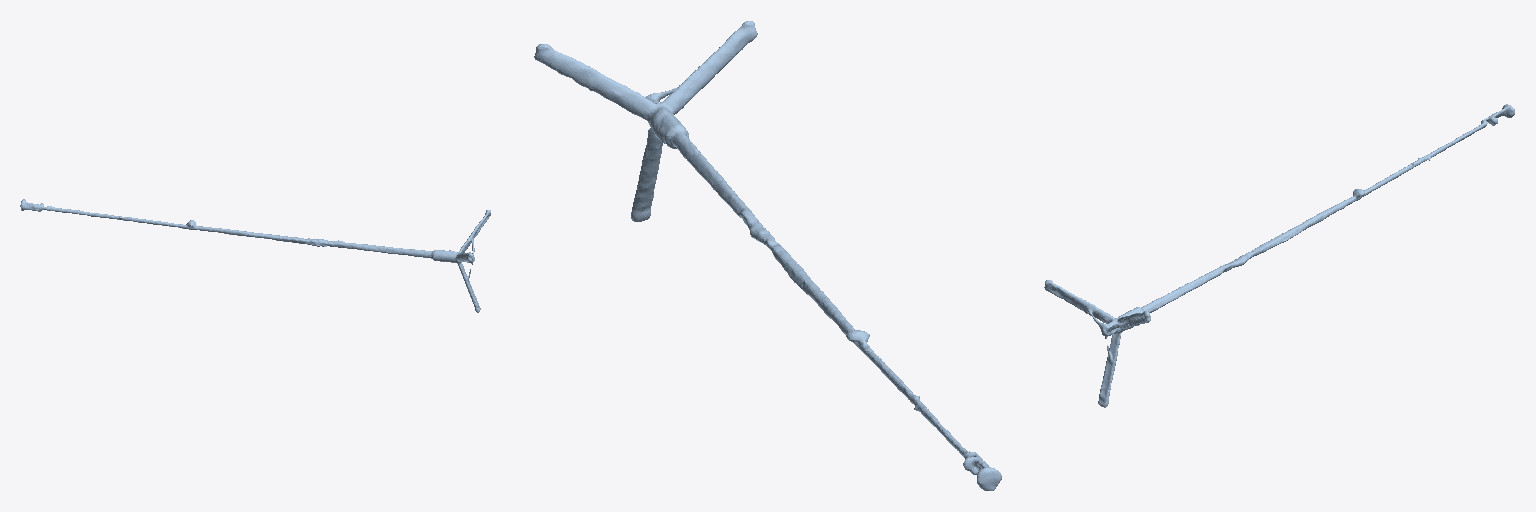
URDF robot description (tripod.urdf):
<?xml version="1.0" ?>
<robot name="tripod.urdf">
  <dynamics damping="0.5" friction="0.9"/>
  <link name="baseLink">
    <contact>
      <lateral_friction value="0.9"/>
      <rolling_friction value="0.5"/>
      <stiffness value="30000"/>
      <damping value="1000"/>
    </contact>
    <visual>
      <origin rpy="0 0 0" xyz="0 0 0"/>
      <geometry>
        <mesh filename="objects/tripod/tripod.obj" scale="1.0 1.0 1.0"/>
      </geometry>
       <material name="mat">
        <color rgba="0.7 0.8 0.9 1"/>
      </material>
    </visual>
    <collision>
      <origin rpy="0 0 0" xyz="0 0 0"/>
      <geometry>
	 	<mesh filename="objects/tripod/tripod.obj" scale="1.0 1.0 1.0"/>
      </geometry>
    </collision>
  </link>
</robot>

--- Render facts (derived) ---
Views: 3 orthographic renders of the robot side by side, from view 1: azimuth 30°, elevation 25°; view 2: azimuth 150°, elevation 25°; view 3: azimuth 270°, elevation 25°.
Model tripod.urdf with 1 links and 0 joints (none), rooted at baseLink, posed all joints at 0.
Links seen in each view (by area): view 1: baseLink; view 2: baseLink; view 3: baseLink.
Link boxes in pixels (x1,y1,x2,y2): baseLink: (20,199,490,312); baseLink: (534,21,1001,490); baseLink: (1044,104,1514,407).
Size in the robot's own frame: 1.3 by 1.16 by 0.3074 metres.
Meshes: 1 distinct files referenced, 1 mesh visuals loaded (1 OBJ).